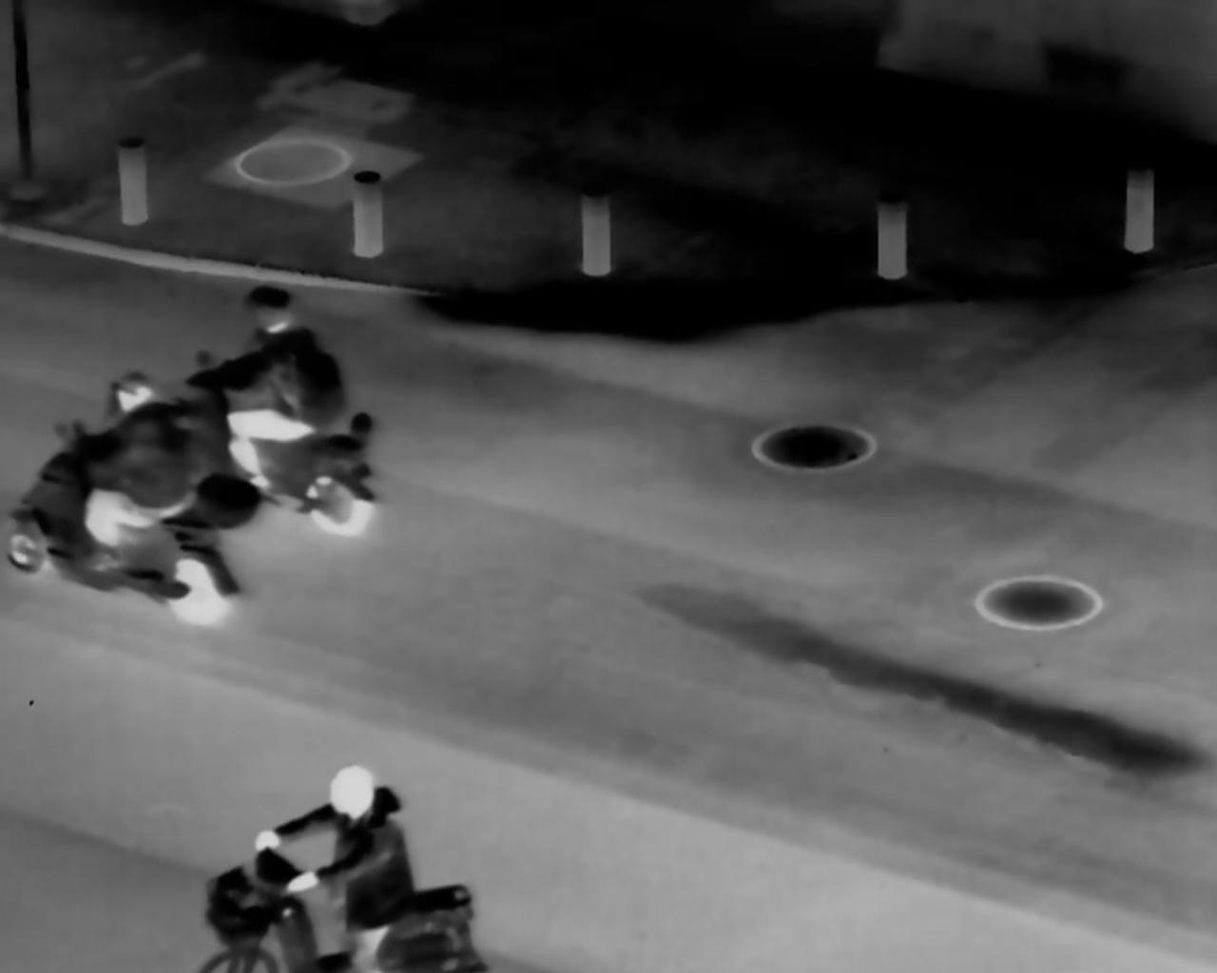person: (264, 750, 433, 956), (198, 282, 355, 499), (64, 364, 204, 589)
